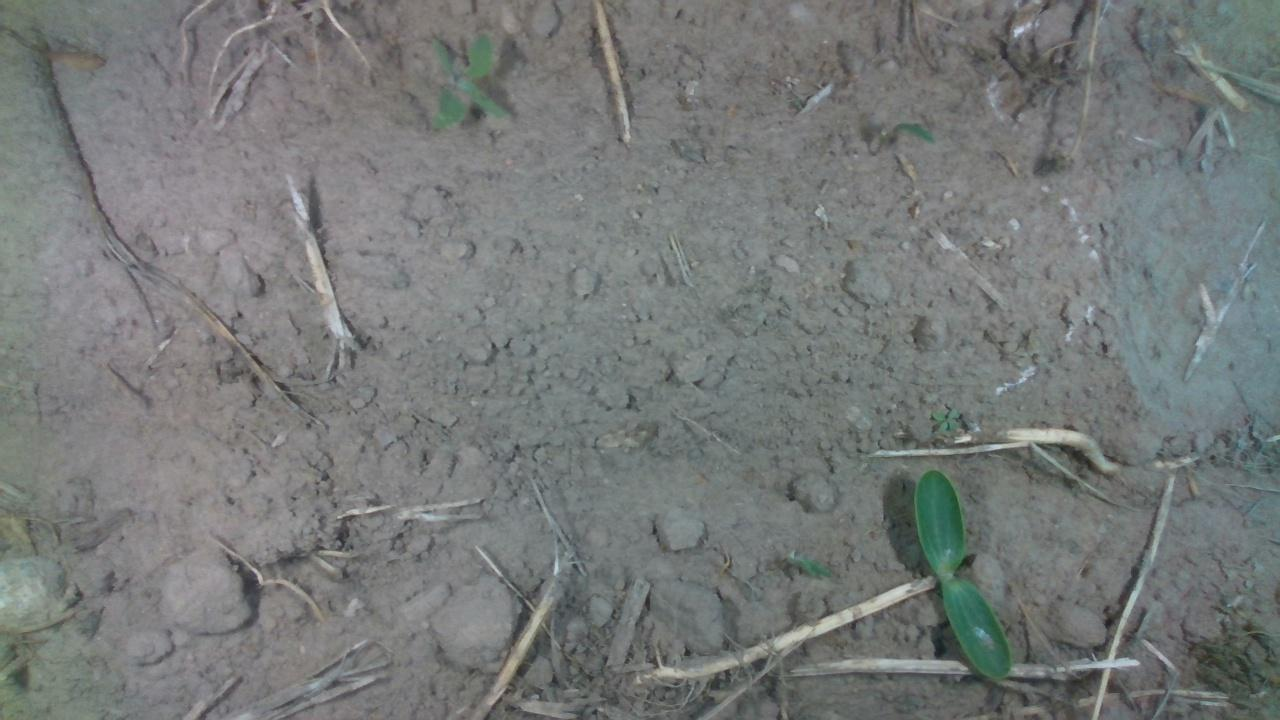crop: (911, 466, 1012, 679)
weed: (427, 28, 513, 127), (928, 404, 959, 433)
